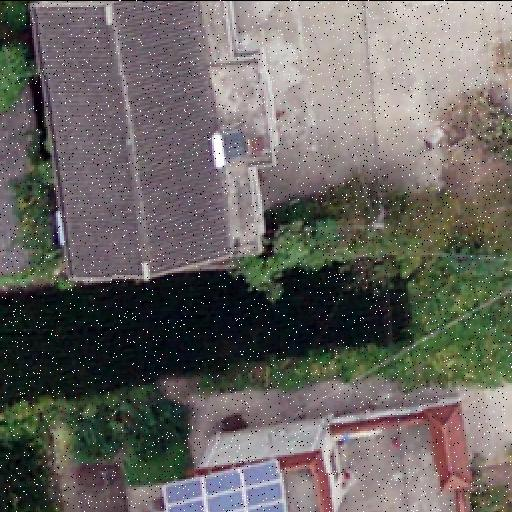solar-panel: (166, 457, 286, 511)
